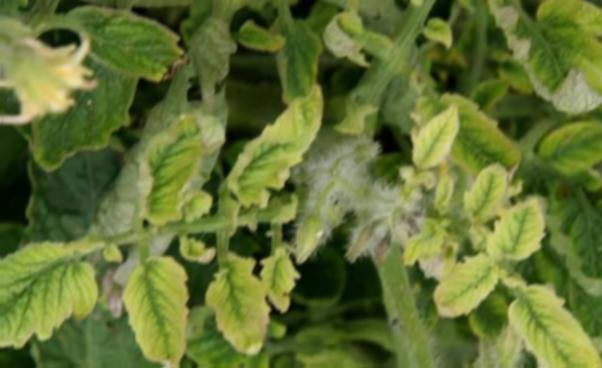Tomato leaf yellow virus: (222, 73, 328, 211), (0, 231, 106, 364), (131, 92, 215, 234), (507, 260, 602, 368), (491, 161, 557, 267), (427, 243, 502, 335), (130, 253, 187, 368), (209, 265, 260, 368), (403, 93, 468, 168)
